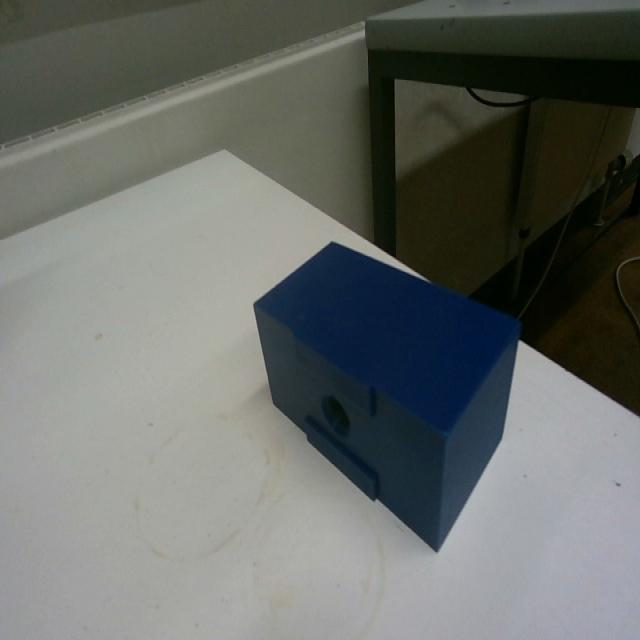Blue Cuboid: (250, 236, 523, 552)
